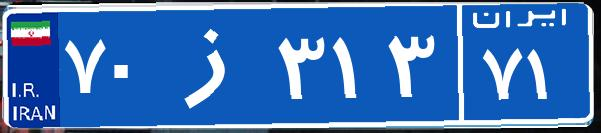0: (110, 28, 158, 105)
1: (330, 28, 385, 110), (525, 38, 570, 115)
3: (385, 28, 445, 110), (273, 28, 330, 110)
7: (57, 26, 110, 107), (475, 38, 525, 113)
ز: (158, 15, 273, 115)
